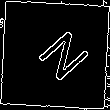N_SW: (22, 23, 88, 87)
